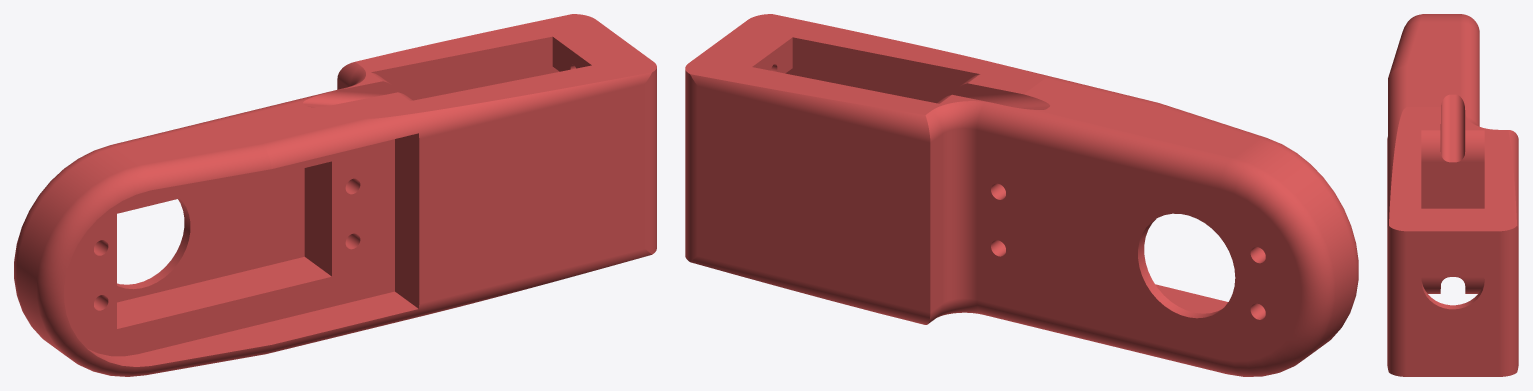
The picture shows the model from 3 angles, left to right: view 1: azimuth 30°, elevation 25°; view 2: azimuth 150°, elevation 25°; view 3: azimuth 270°, elevation 25°; orthographic projection. The views are drawn at different scales.
Visible parts, largest first — view 1: Part4; view 2: Part4; view 3: Part4.
Boxes of the visible parts, box(x1,y1,x2,y2) form: Part4: box(14, 14, 656, 376); Part4: box(685, 14, 1358, 376); Part4: box(1387, 14, 1518, 376).
Bounding box in the file's own units: 0.1149 × 0.038 × 0.027.
